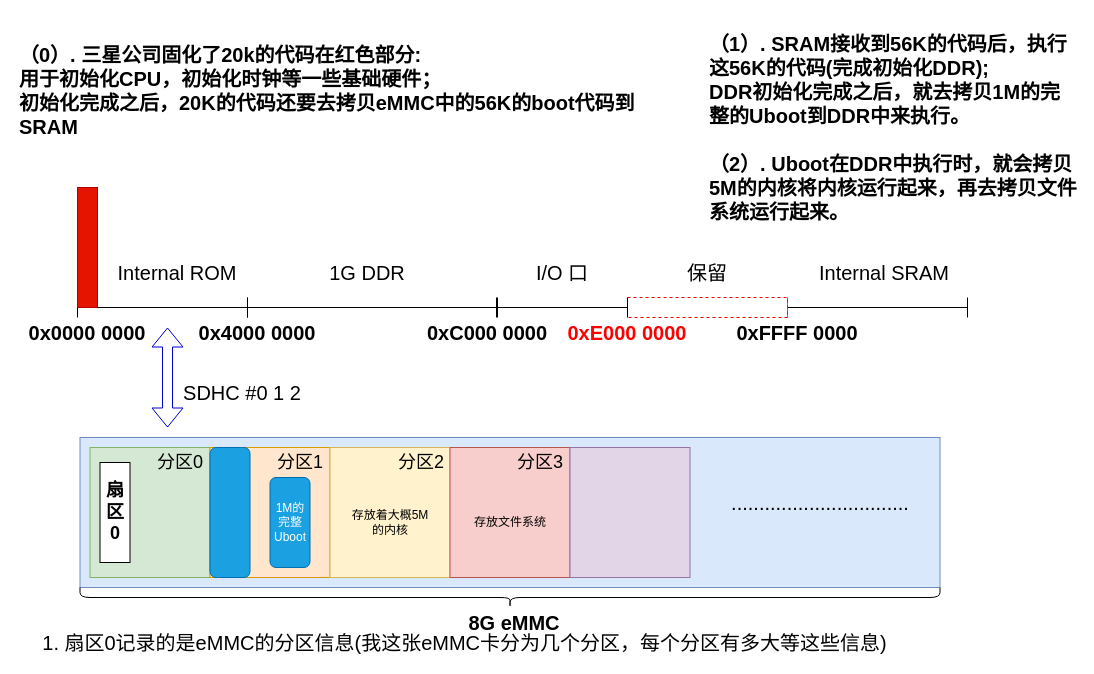
This 1094x674 diagram has some shape labels left out. The shapes that lost their labels are listed below. From the top down, each one's centre as x and y in pixels, then its label:
point (229, 512): 用户的boot 代码56K
point (629, 512): 分区4
